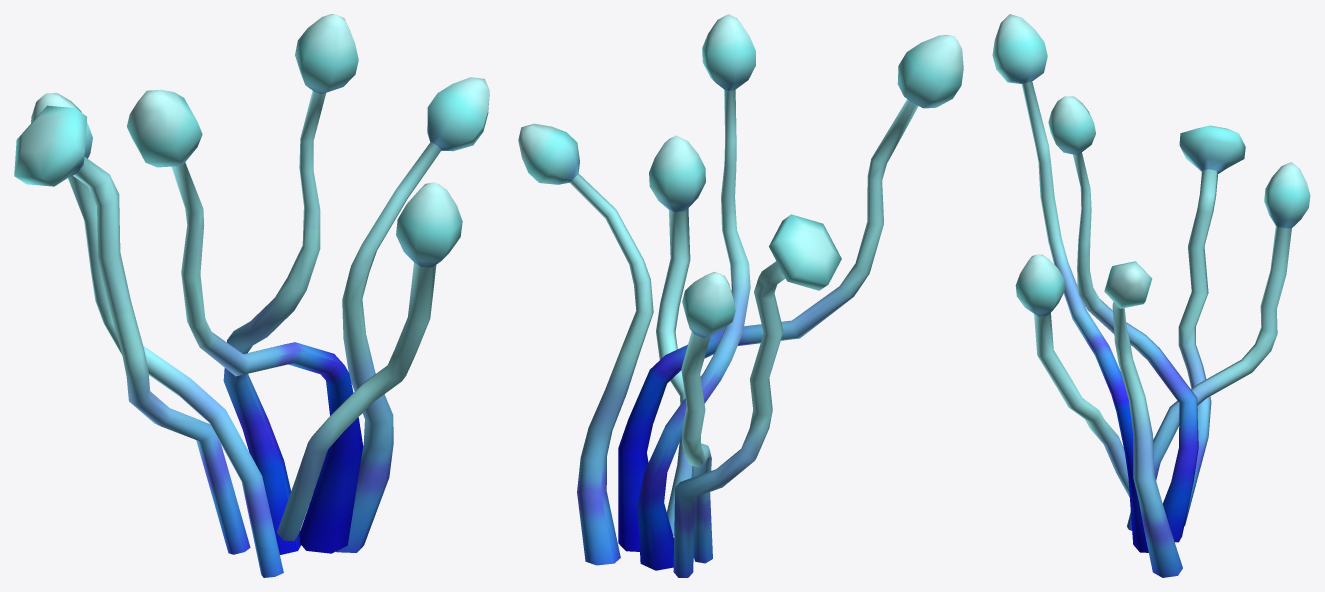
File: Avatar_plant_04.fbx
The picture shows the model from 3 angles, left to right: view 1: azimuth 30°, elevation 25°; view 2: azimuth 150°, elevation 25°; view 3: azimuth 270°, elevation 25°; orthographic projection. The views are drawn at different scales.
Visible parts, largest first — view 1: Avatar_plant_04; view 2: Avatar_plant_04; view 3: Avatar_plant_04.
Boxes of the visible parts, left/top/right/bottom form: Avatar_plant_04: left=14, top=14, right=489, bottom=577; Avatar_plant_04: left=518, top=14, right=963, bottom=577; Avatar_plant_04: left=992, top=14, right=1310, bottom=577.
Bounding box in the file's own units: 142 × 190 × 122.
